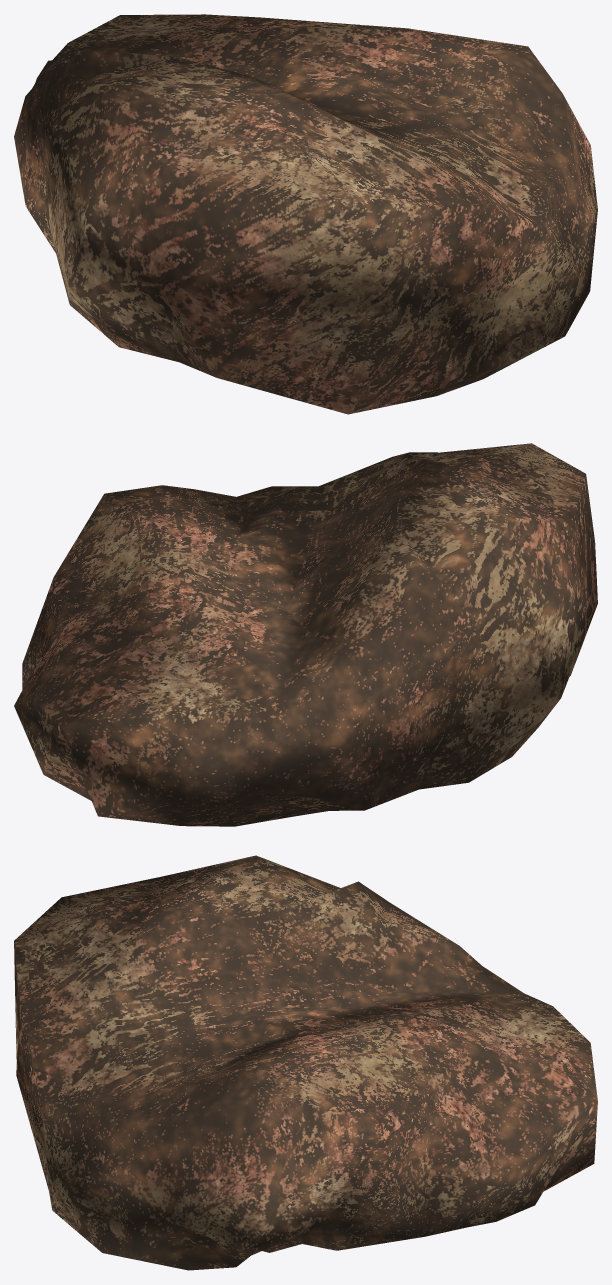
The model's file is Stone1.fbx.
3 renders of one model, top to bottom at view 1: azimuth 30°, elevation 25°; view 2: azimuth 150°, elevation 25°; view 3: azimuth 270°, elevation 25°, orthographic. The views are drawn at different scales.
Visible parts, largest first — view 1: stone1_blend_export_unwarp:Mesh; view 2: stone1_blend_export_unwarp:Mesh; view 3: stone1_blend_export_unwarp:Mesh.
Boxes of the visible parts, left/top/right/bottom form: stone1_blend_export_unwarp:Mesh: left=14, top=14, right=597, bottom=414; stone1_blend_export_unwarp:Mesh: left=14, top=443, right=597, bottom=826; stone1_blend_export_unwarp:Mesh: left=14, top=855, right=597, bottom=1270.
Size of the model in its own units: 332 by 186 by 369.
